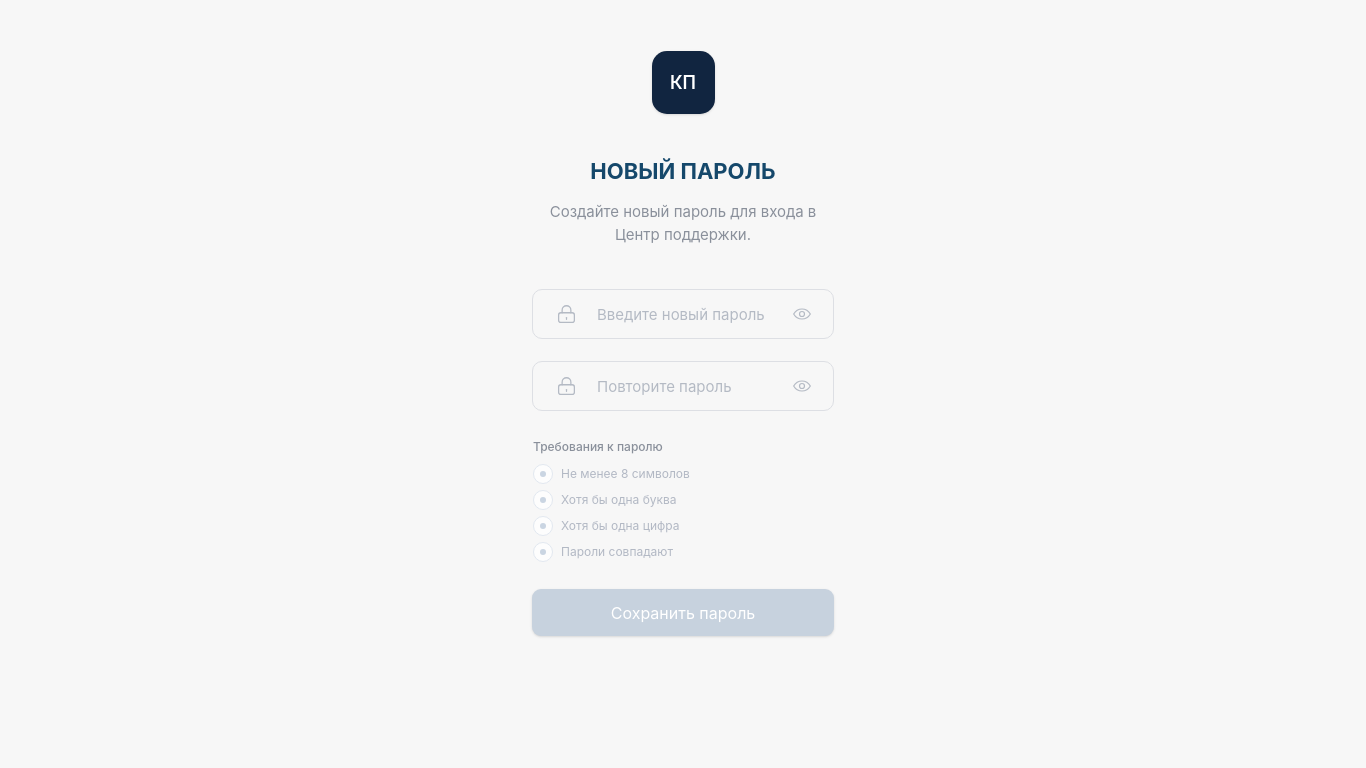
it: Password reset pages › completes password reset set-password and shows success feedback
expect the heading "Новый пароль" is shown: met, box 590,158 -> 776,184
expect the text "Создайте новый пароль для входа в Центр поддержки." is shown: met, box 533,200 -> 833,246
Type "NewPass123" into the password field labelled "Введите новый пароль" at (683, 314), box 532,289 -> 834,339
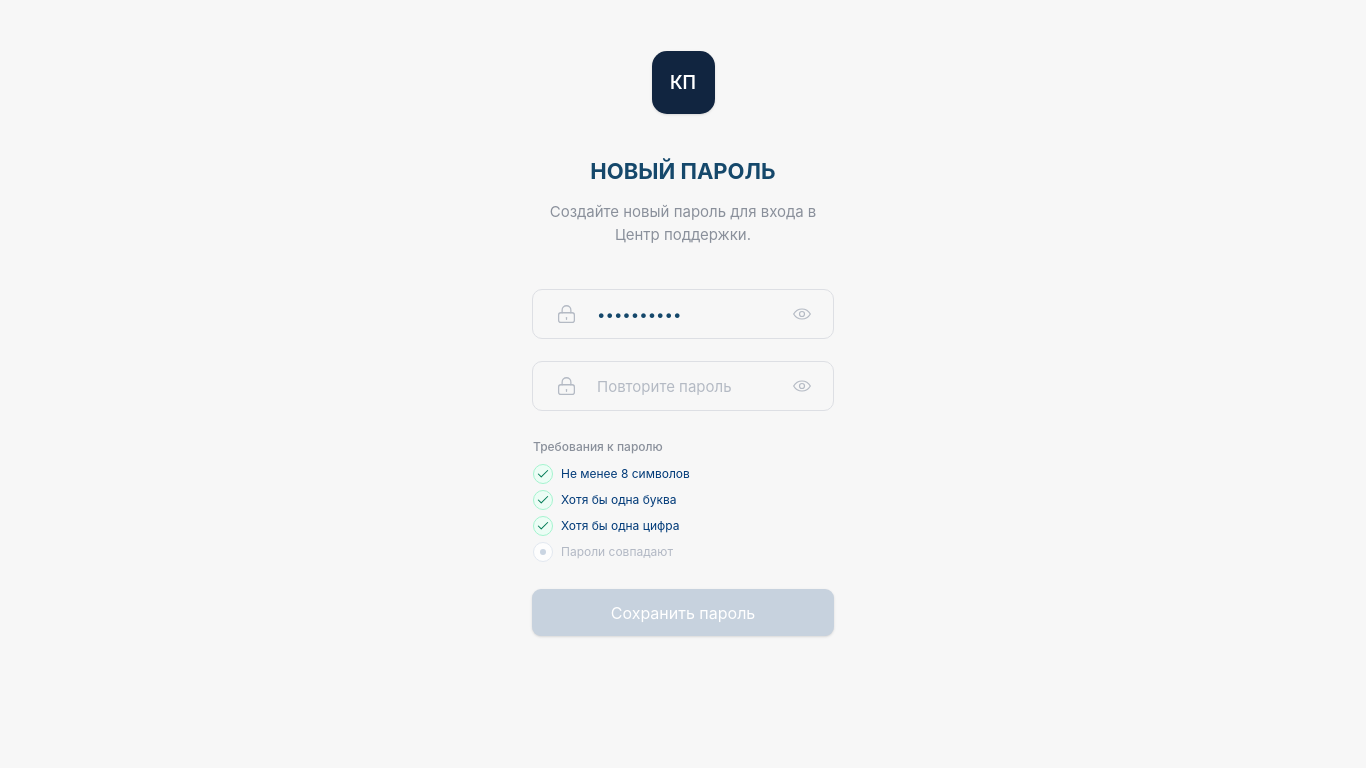
Type "NewPass123" into the password field named "Подтвердите пароль" at (683, 386), box 532,361 -> 834,411
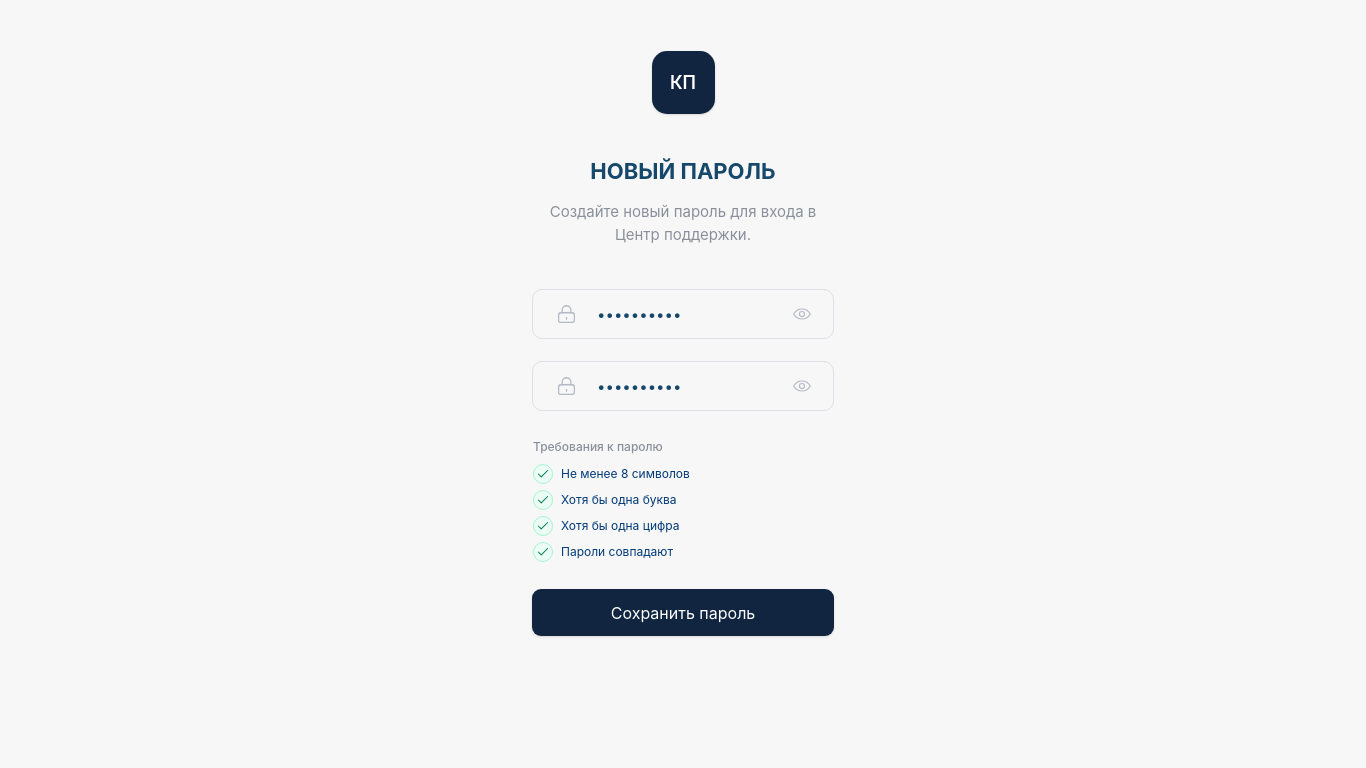
Click the button "Сохранить пароль" at (683, 612), box 532,589 -> 834,636
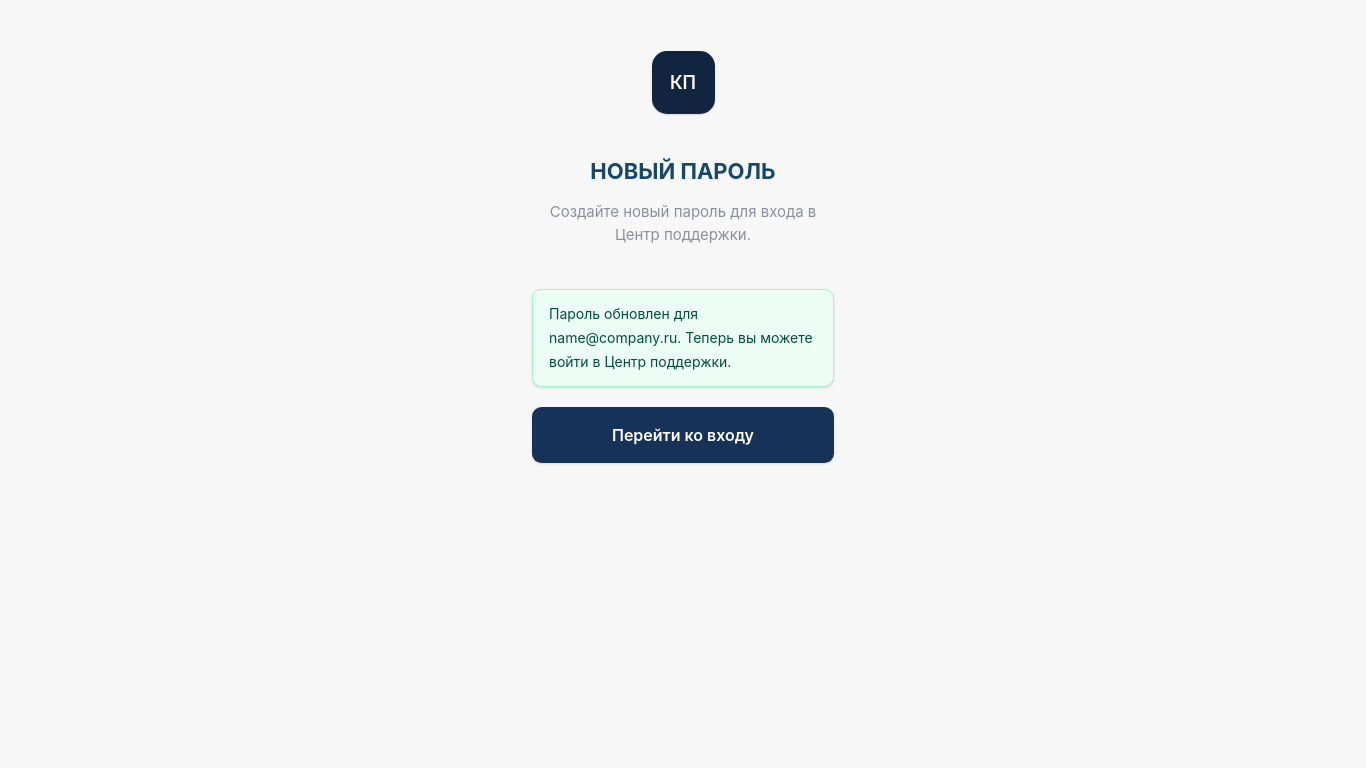
expect the text "Пароль обновлен для name@company.ru" is shown: met, box 532,289 -> 834,387
